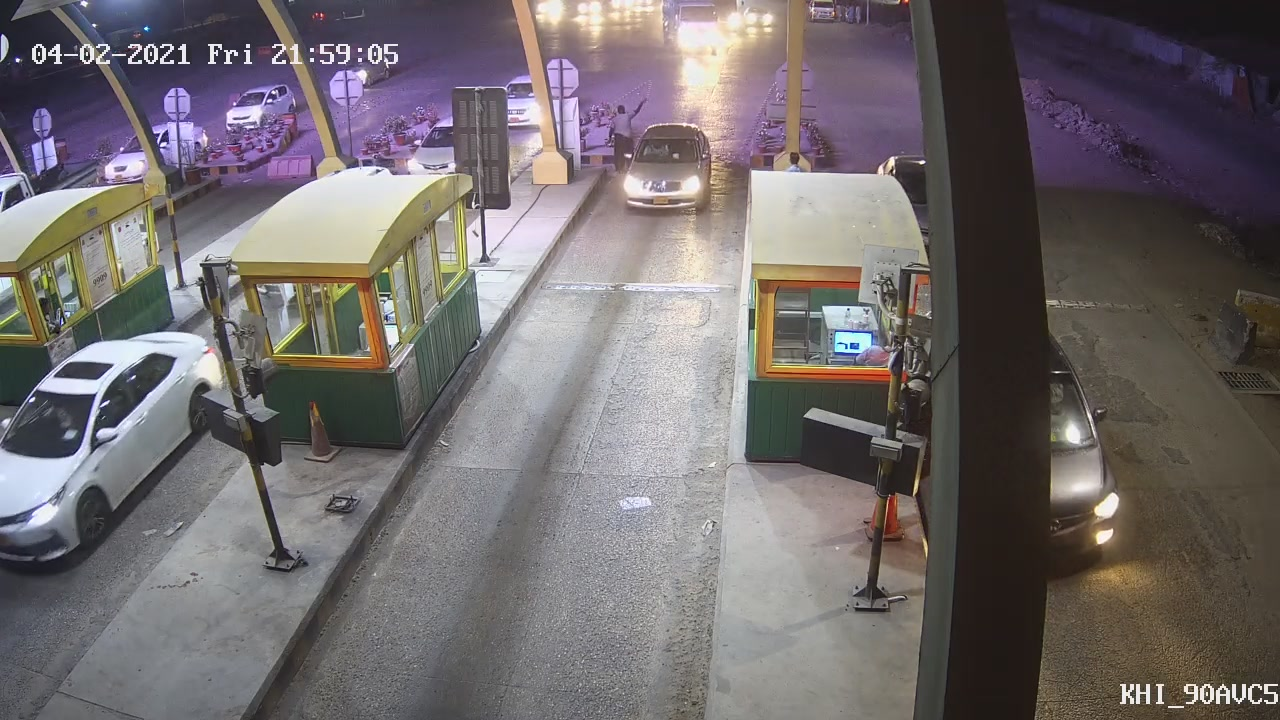F1: (615, 116, 714, 222)
